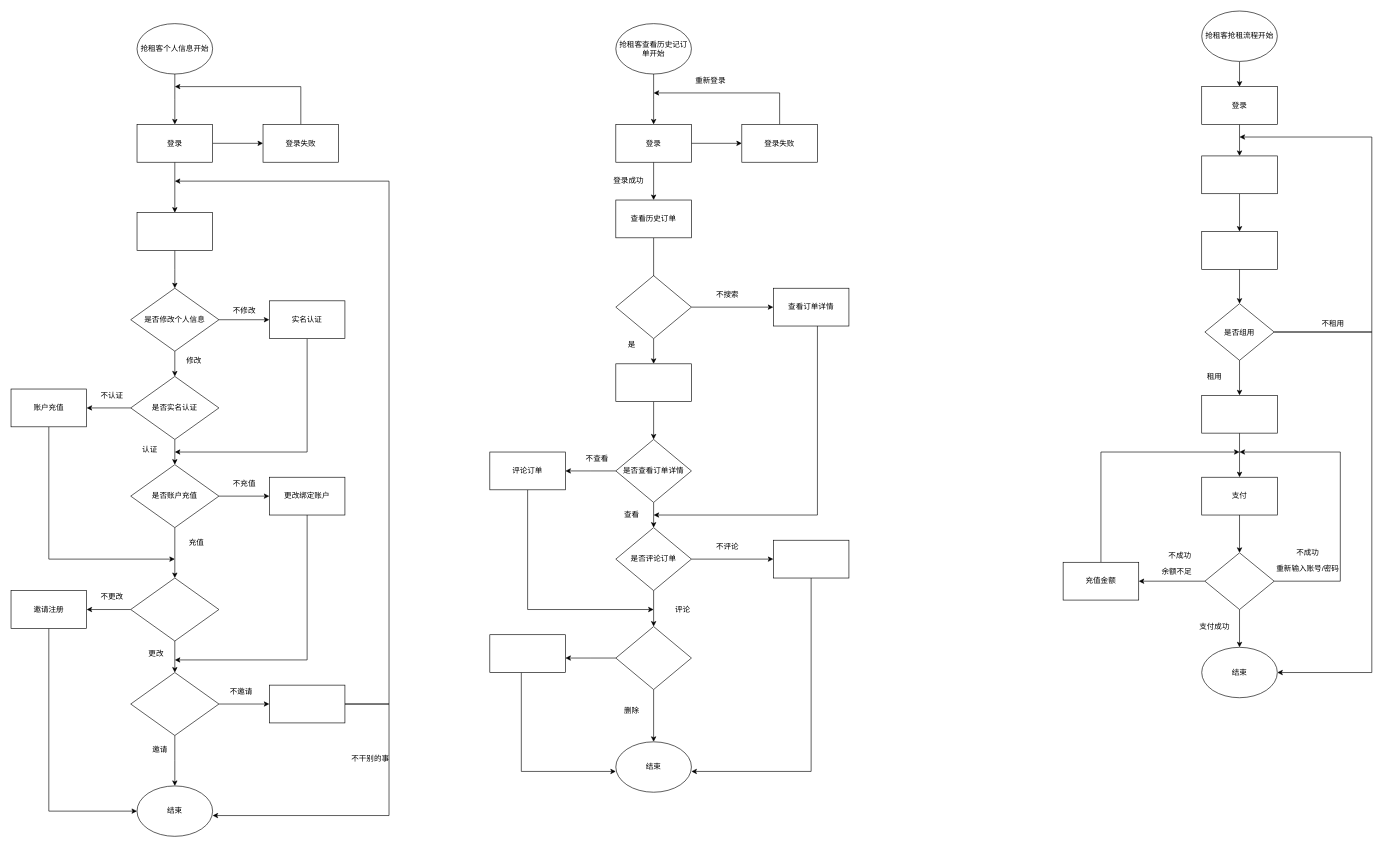
This 1388x847 diagram has some shape labels left out. The box of each missing label's shape, as (x1, y1, x2, y2) in pixels:
下订单: (1201, 395, 1277, 433)
不删除订单: (489, 634, 565, 673)
删除订单: (773, 540, 849, 578)
干别的事: (269, 684, 345, 723)
支付是否成功: (1204, 552, 1274, 610)
是否删除订单: (615, 626, 691, 690)
是否搜索历史订单: (615, 275, 691, 339)
是否更改账户绑定功能: (130, 577, 219, 641)
是否邀请注册: (130, 672, 219, 736)
显示个人信息: (136, 212, 213, 250)
查看车位详情: (1201, 231, 1277, 269)
查询位置: (1201, 155, 1277, 194)
输入搜索内容: (615, 363, 691, 402)
